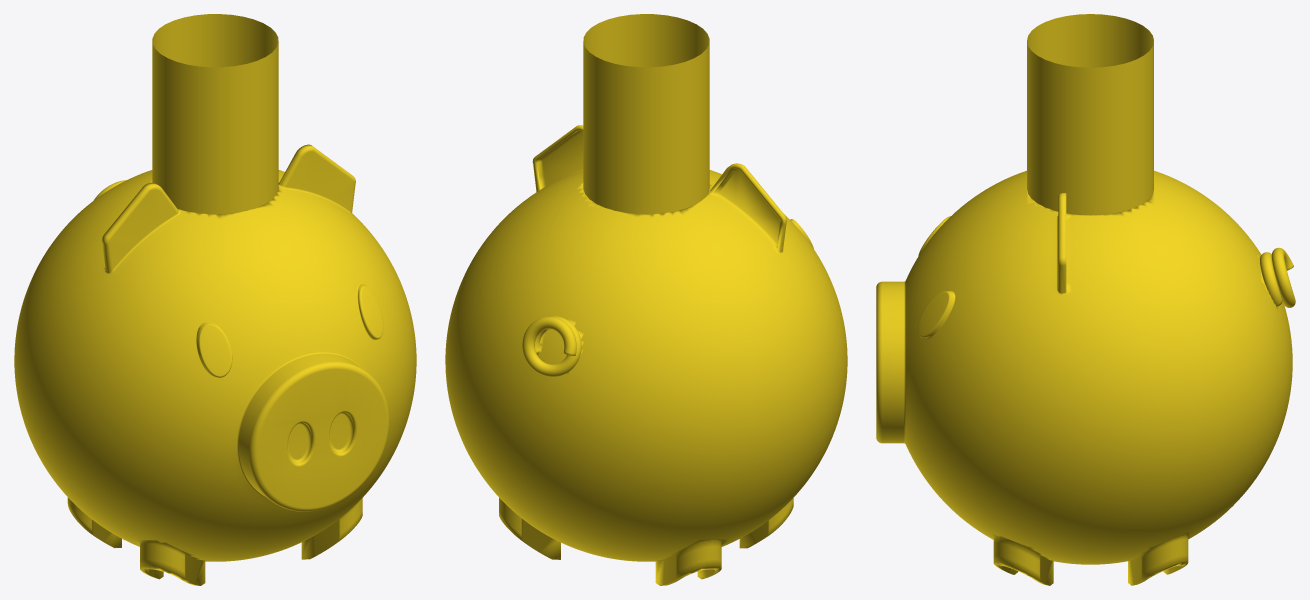
File: glass2.glb
3 renders of one model, left to right at view 1: azimuth 30°, elevation 25°; view 2: azimuth 150°, elevation 25°; view 3: azimuth 270°, elevation 25°, orthographic.
Visible parts, largest first — view 1: Cylinder; view 2: Cylinder; view 3: Cylinder.
Part boxes in pixels (left/top/right/bottom): Cylinder: left=14, top=14, right=416, bottom=585; Cylinder: left=445, top=14, right=847, bottom=585; Cylinder: left=876, top=14, right=1295, bottom=585.
Size of the model in its own units: 6.36 by 8.77 by 6.6.
